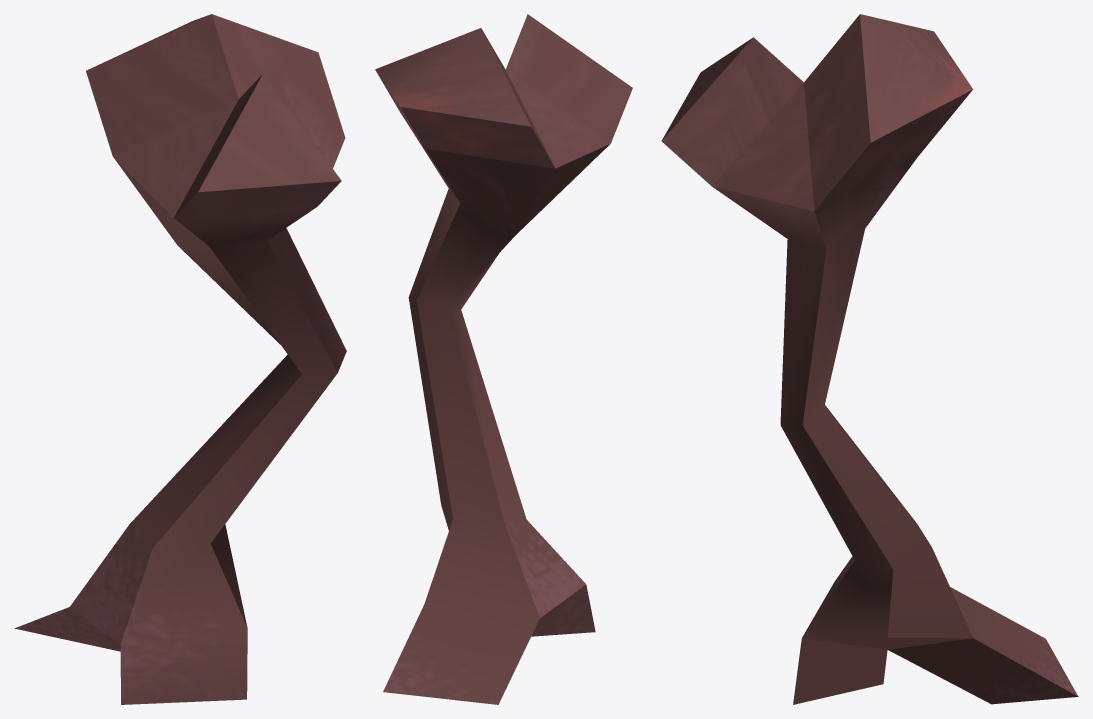
The model's file is Tree_Three.fbx.
The picture shows the model from 3 angles, left to right: view 1: azimuth 30°, elevation 25°; view 2: azimuth 150°, elevation 25°; view 3: azimuth 270°, elevation 25°; orthographic projection. The views are drawn at different scales.
Visible parts, largest first — view 1: pCylinder3; view 2: pCylinder3; view 3: pCylinder3.
Part boxes in pixels (bbox=[...]): pCylinder3: bbox=[14, 14, 346, 704]; pCylinder3: bbox=[375, 14, 632, 704]; pCylinder3: bbox=[661, 14, 1078, 704].
Bounding box in the file's own units: 0.8805 × 2.59 × 1.39.
Materials: 1 (1 with a texture image).
